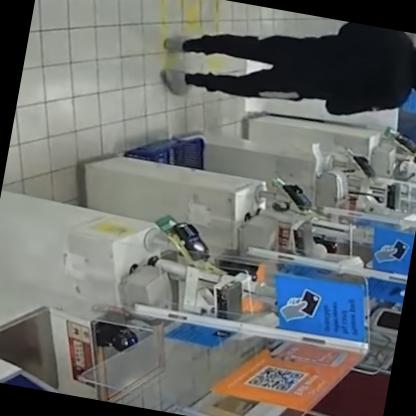Human Body: (147, 0, 415, 147)
